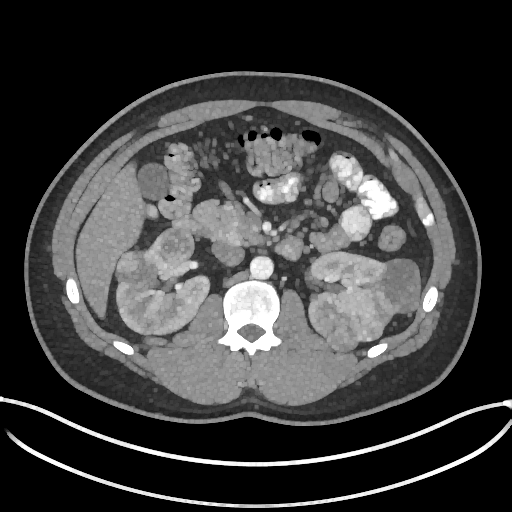Lesion: (377, 255, 425, 315), (114, 249, 156, 290)
